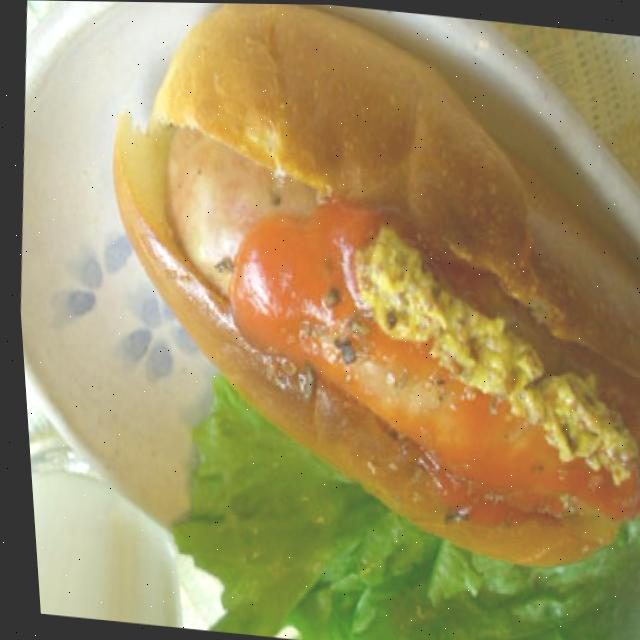汉堡快餐: (70, 1, 640, 591)
